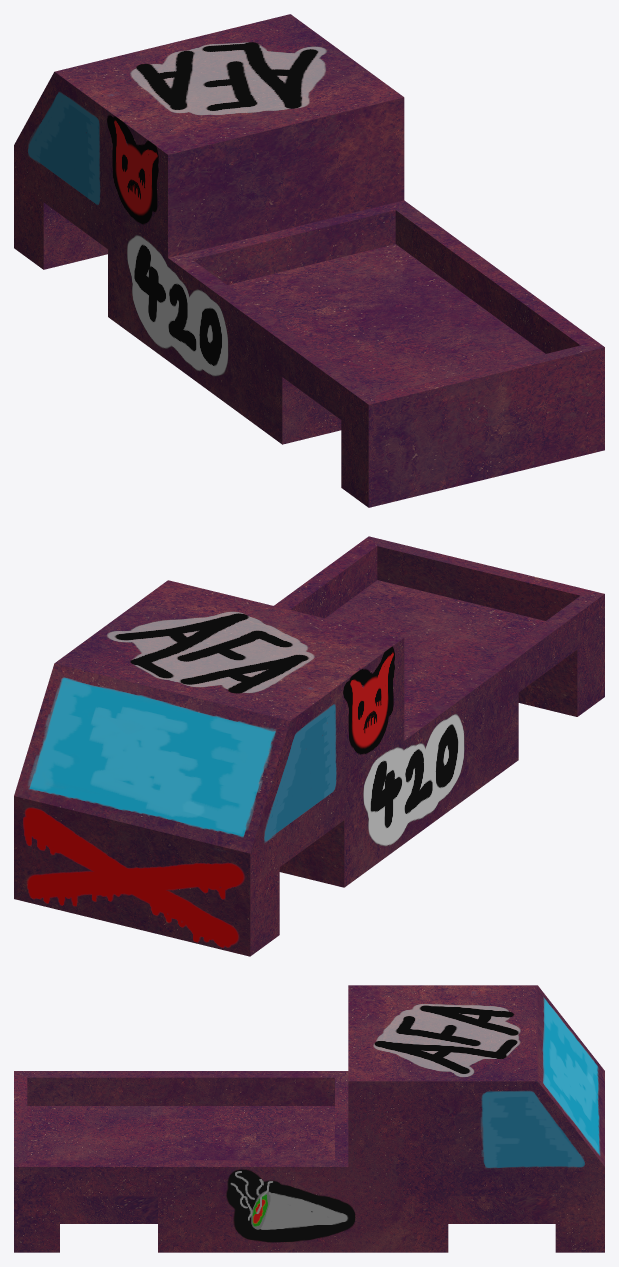
Rendered from Enemigo_1.glb.
The picture shows the model from 3 angles, top to bottom: view 1: azimuth 30°, elevation 25°; view 2: azimuth 150°, elevation 25°; view 3: azimuth 270°, elevation 25°; orthographic projection. The views are drawn at different scales.
Visible parts, largest first — view 1: Cube; view 2: Cube; view 3: Cube.
Boxes of the visible parts, x1,y1,x2,y2 form: Cube: (14, 14, 604, 507); Cube: (14, 536, 604, 956); Cube: (14, 985, 604, 1252).
Size of the model in its own units: 4.01 by 3.34 by 10.42.
Materials: 1 (1 with a texture image).
